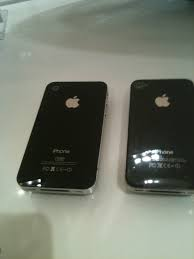iphone: (15, 78, 106, 201), (120, 77, 194, 195)
